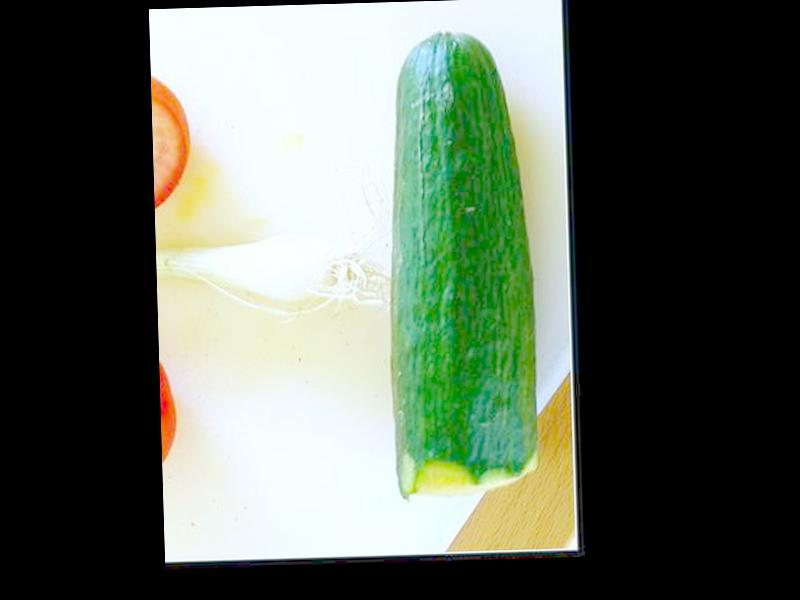Cucumber: (383, 26, 541, 500)
